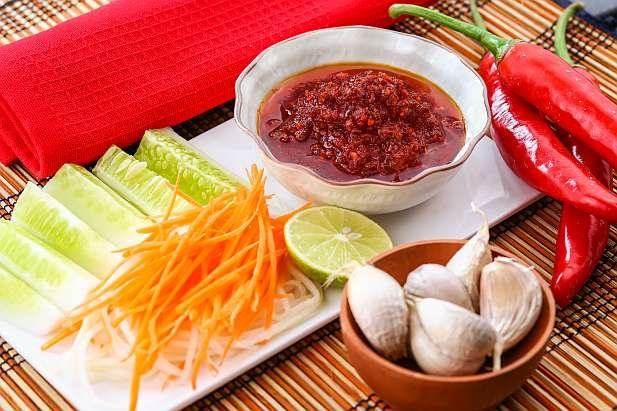sambal: (268, 65, 452, 179)
